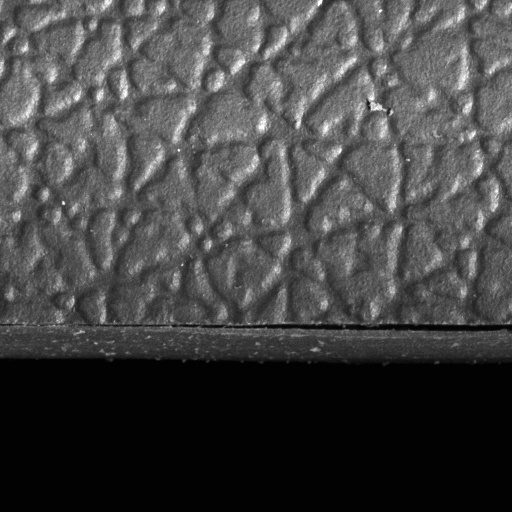jiaofeng: (235, 316, 511, 341)
